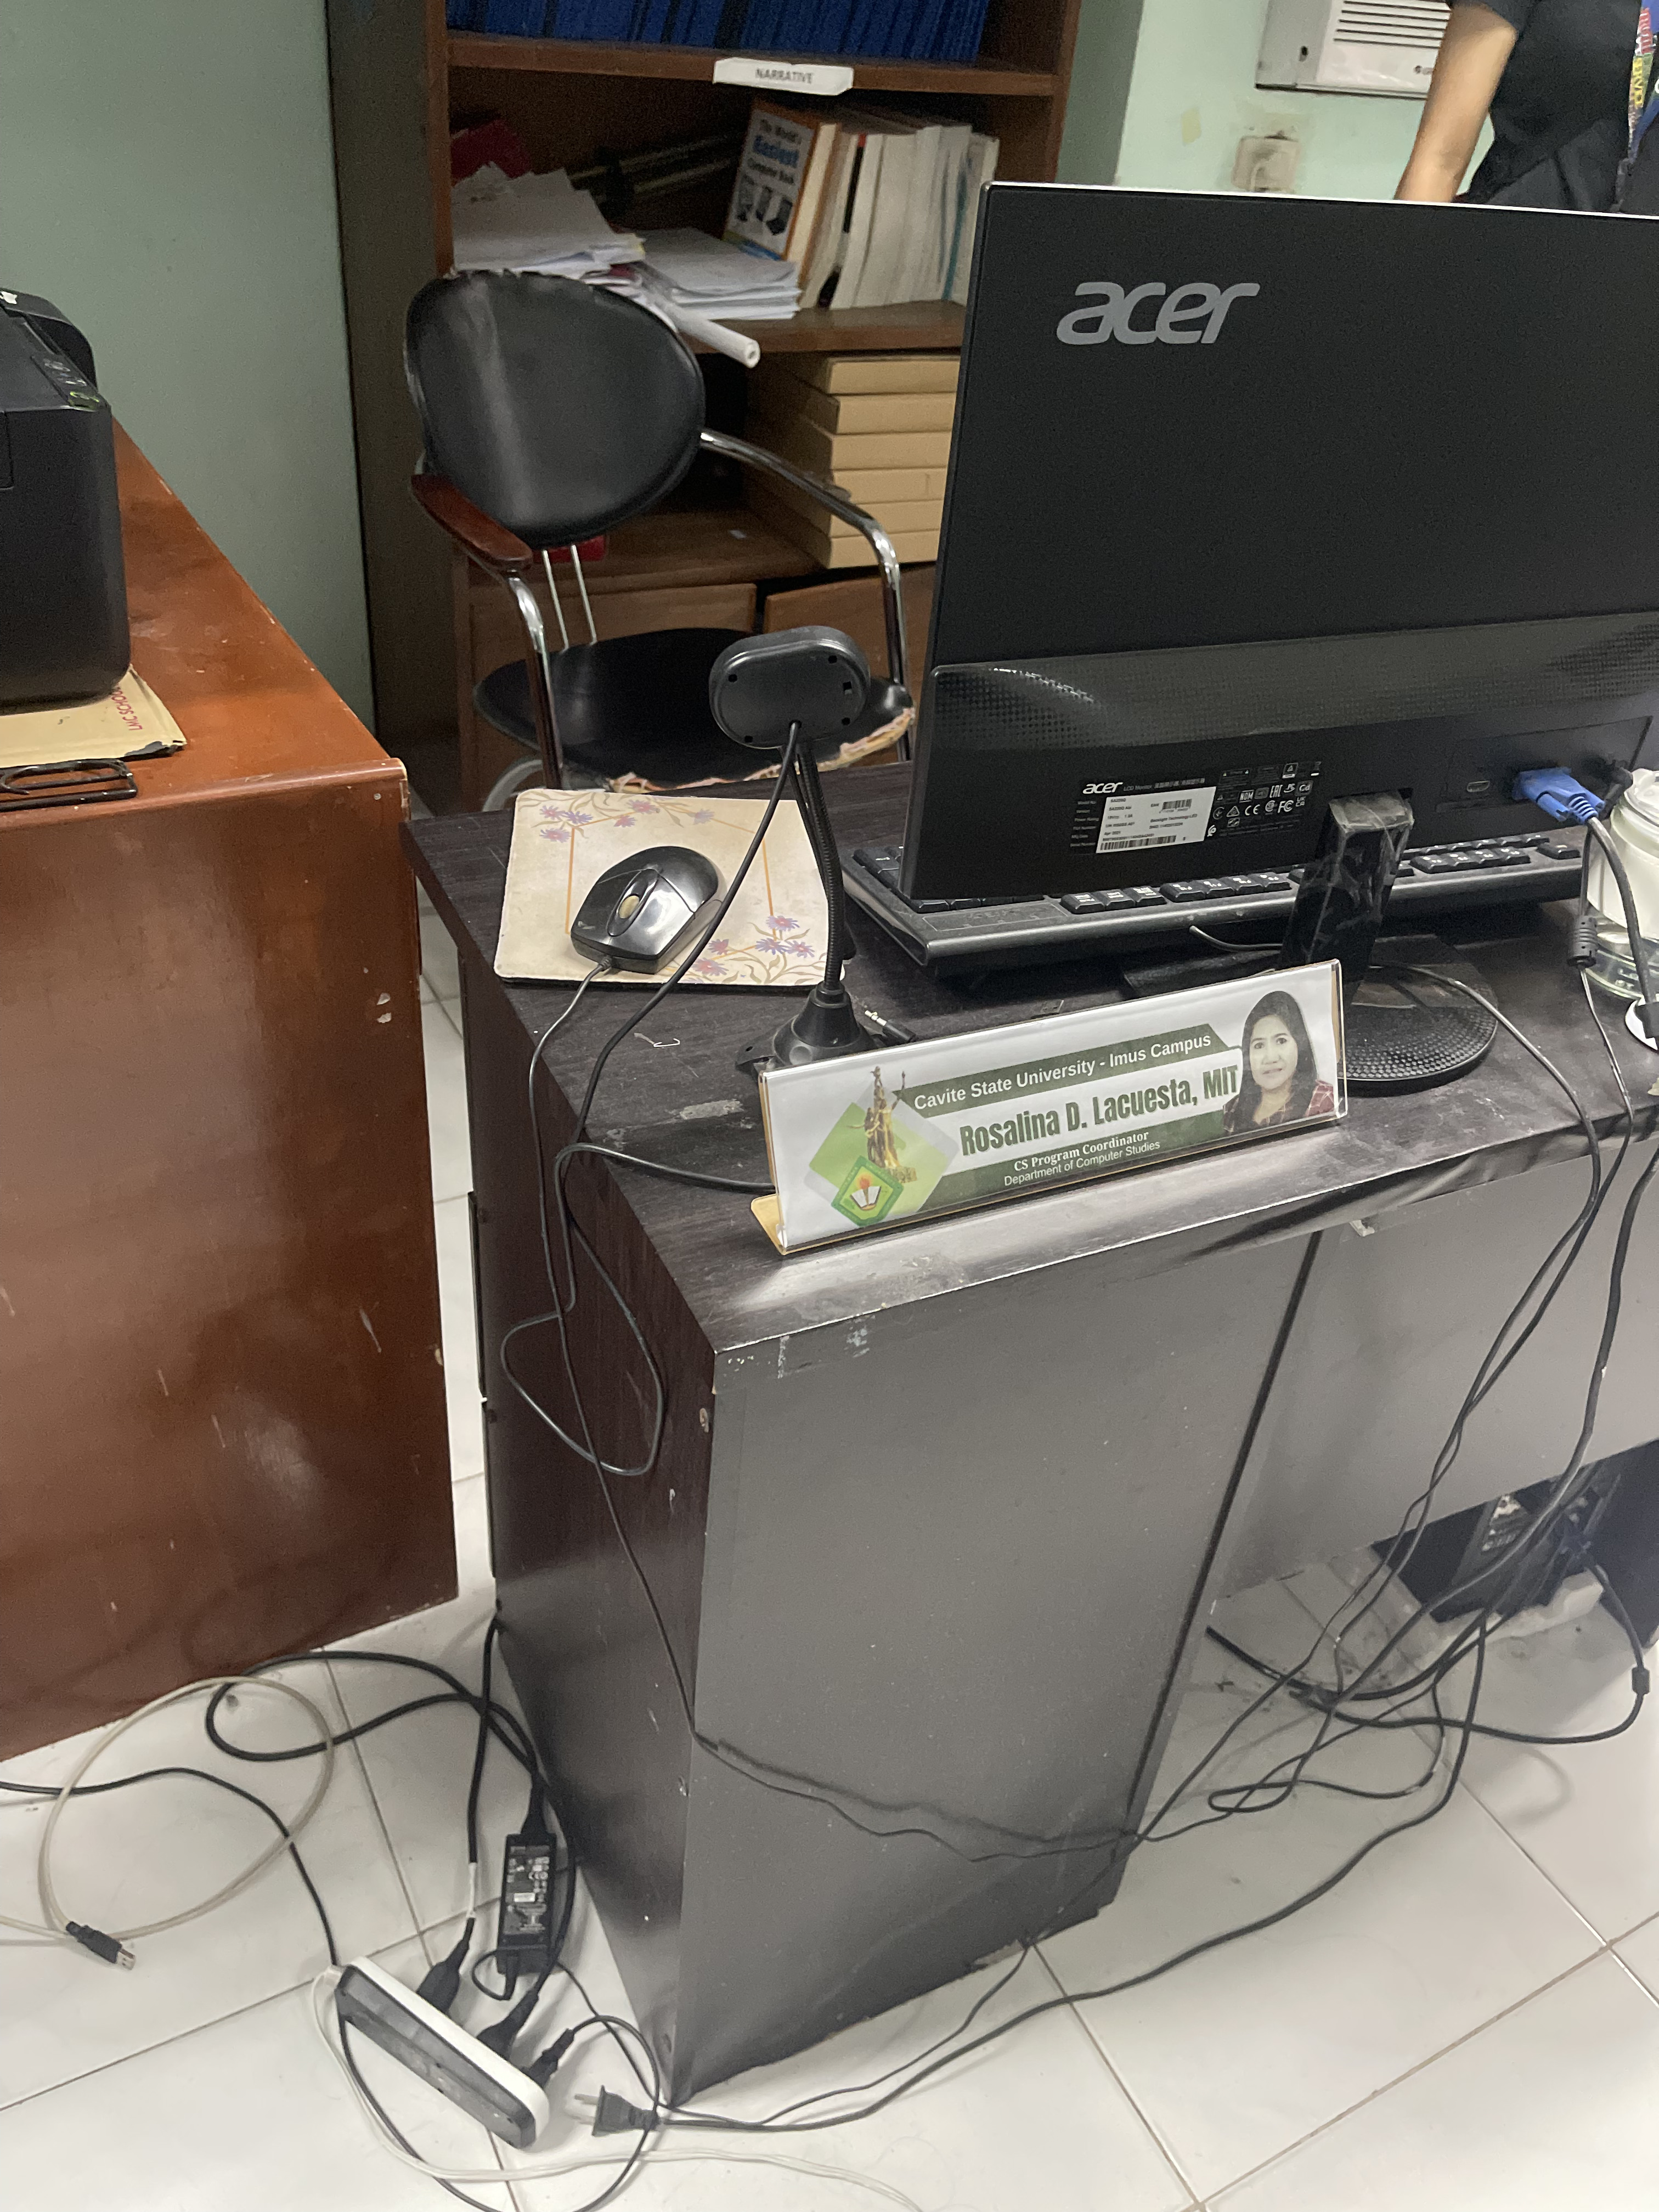table1: (382, 770, 1659, 2116)
